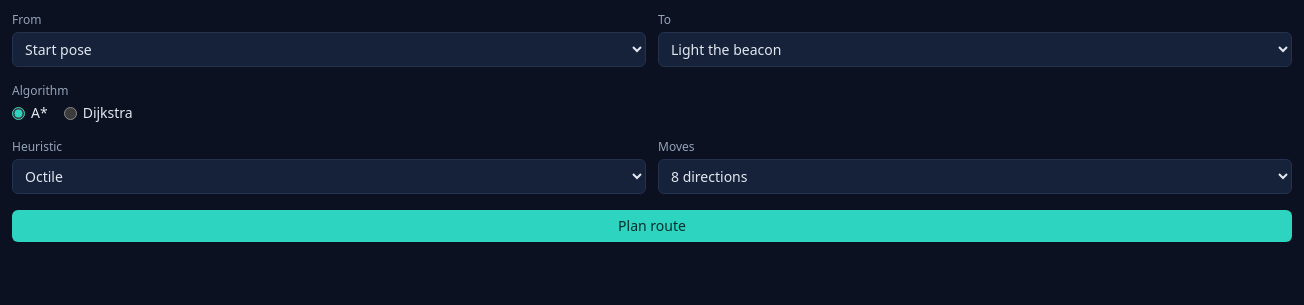
it: RoutePanel › warns that Manhattan is not admissible with diagonal moves
Select "Manhattan" in the dropdown labelled "Heuristic" at (329, 176), box [12,159,646,194]
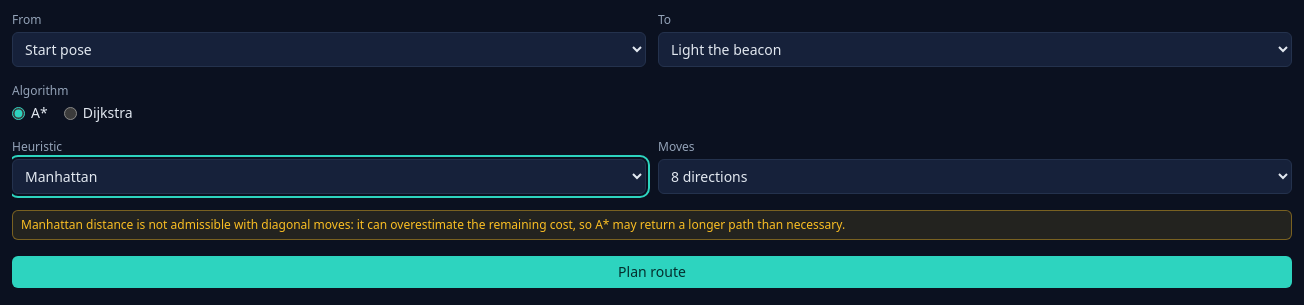
Expected: the text "not admissible" is shown, [21,216,845,233]
